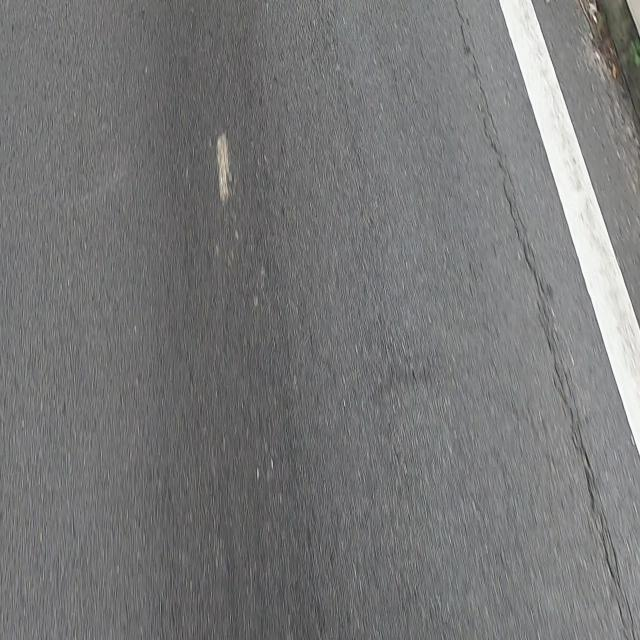Retak-Memanjang: (454, 1, 636, 640)
